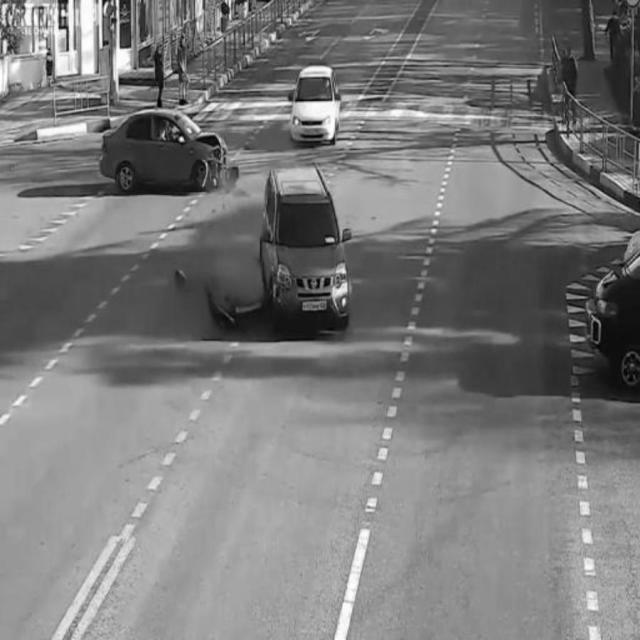person: (560, 45, 586, 126), (177, 32, 193, 99), (604, 9, 624, 57), (152, 42, 168, 100)
vehicle: (258, 166, 356, 332), (102, 104, 232, 188), (586, 251, 640, 388), (290, 65, 344, 141)
